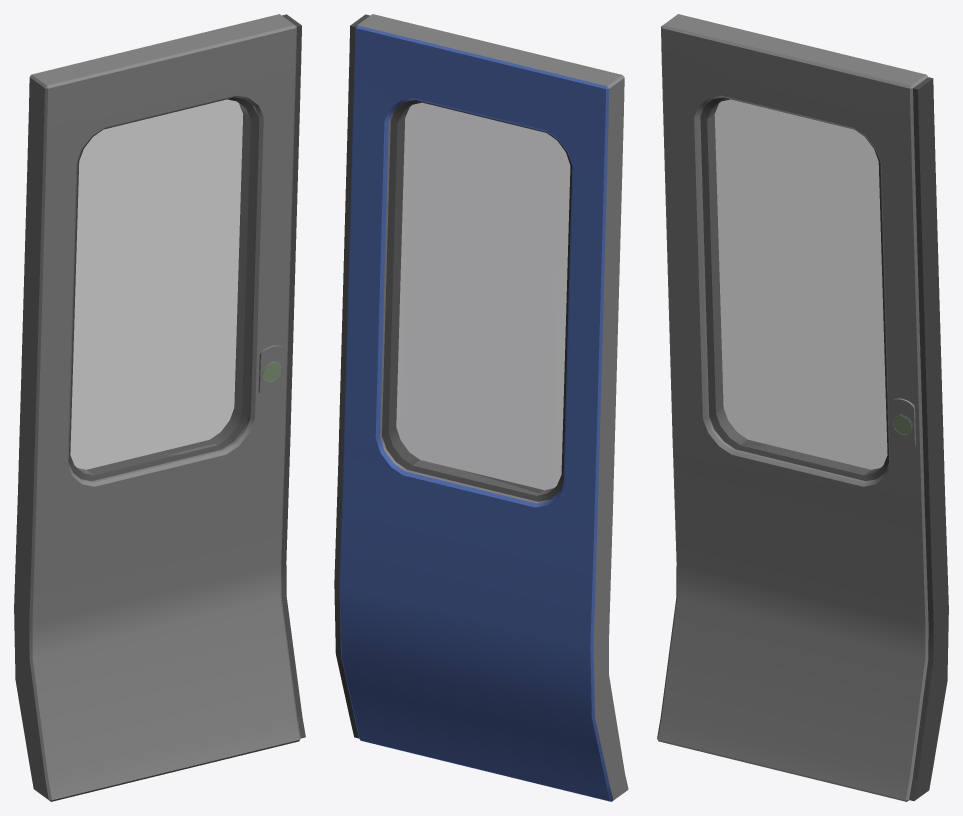
The model's file is Hull_Exit_DoorL.fbx.
3 views of the same model, side by side, from view 1: azimuth 30°, elevation 25°; view 2: azimuth 150°, elevation 25°; view 3: azimuth 330°, elevation 25° (orthographic).
Visible parts, largest first — view 1: Door2, Window_DoorL, Door2Button; view 2: Door2, Window_DoorL; view 3: Door2, Window_DoorL, Door2Button.
Part boxes in pixels (left/top/right/bottom): Door2: left=14, top=14, right=305, bottom=801; Window_DoorL: left=70, top=99, right=250, bottom=475; Door2Button: left=258, top=345, right=284, bottom=396; Door2: left=334, top=14, right=628, bottom=801; Window_DoorL: left=389, top=102, right=570, bottom=495; Door2: left=657, top=14, right=948, bottom=801; Window_DoorL: left=707, top=99, right=887, bottom=475; Door2Button: left=890, top=398, right=915, bottom=449.
Size of the model in its own units: 73.44 by 195 by 18.4.
